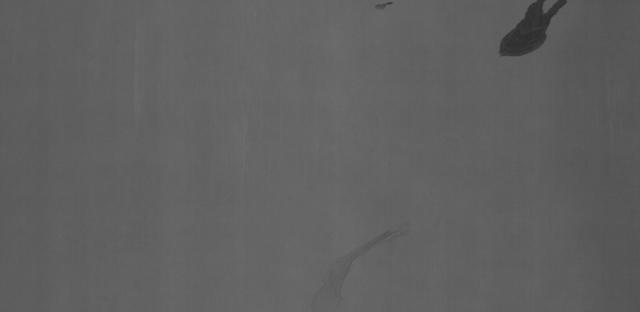oil_spot: (492, 0, 576, 62), (370, 2, 394, 13)
water_spot: (312, 225, 400, 312)
